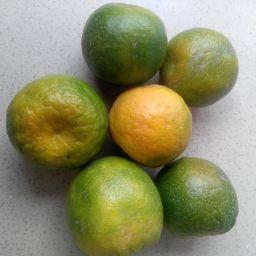orange: (64, 155, 165, 256), (6, 74, 110, 171), (81, 2, 169, 85), (109, 84, 194, 169), (153, 156, 240, 237), (158, 27, 240, 109)
